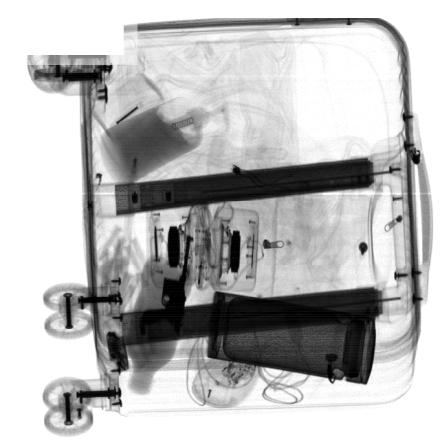Gun: (141, 234, 193, 335)
